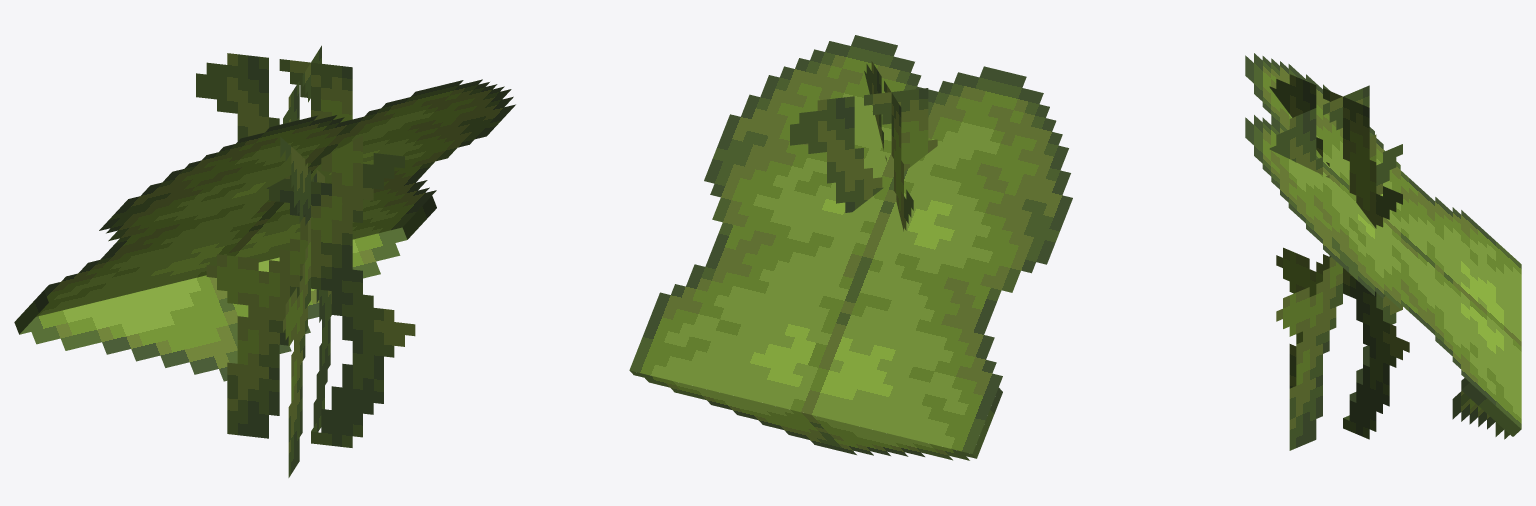
The model's file is block_big_dripleaf_full_tilt.gltf.
The picture shows the model from 3 angles, left to right: view 1: azimuth 30°, elevation 25°; view 2: azimuth 150°, elevation 25°; view 3: azimuth 270°, elevation 25°; orthographic projection. The views are drawn at different scales.
Visible parts, largest first — view 1: cube (×4); view 2: cube (×4); view 3: cube (×5).
Part boxes in pixels (x1,y1,x2,y2): cube (×4): (20, 45, 515, 477); cube (×4): (629, 35, 1072, 460); cube (×5): (1245, 53, 1521, 450).
Bounding box in the file's own units: 1 × 0.9375 × 0.8839.
4 materials, 4 textured.
